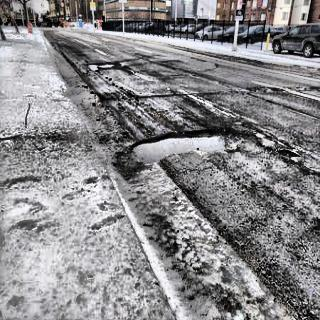alligator-crack: (92, 84, 241, 110)
crack: (248, 93, 320, 122)
pothole: (125, 118, 243, 164), (86, 58, 133, 74), (271, 148, 301, 167)
